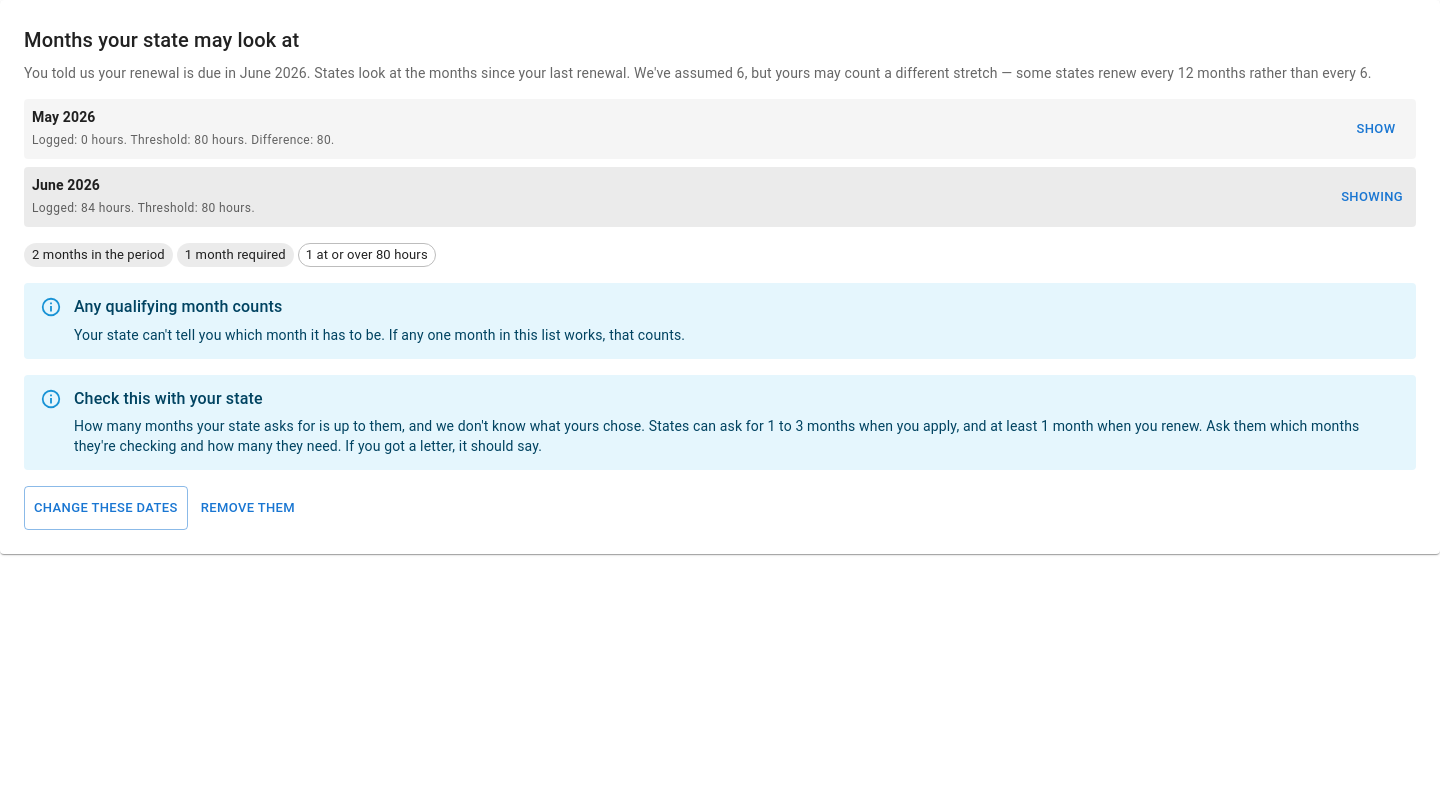
Scenario: ADR-0003 no-verdict guard: W5 month-scoped surfaces › ReviewPeriodPanel › seeds the edit form from the stored anchor, so a renewal cannot become an application
This screenshot has width=1440, height=810.
Click the button "Change these dates" at {"x": 106, "y": 508}, box 24,486 -> 188,530
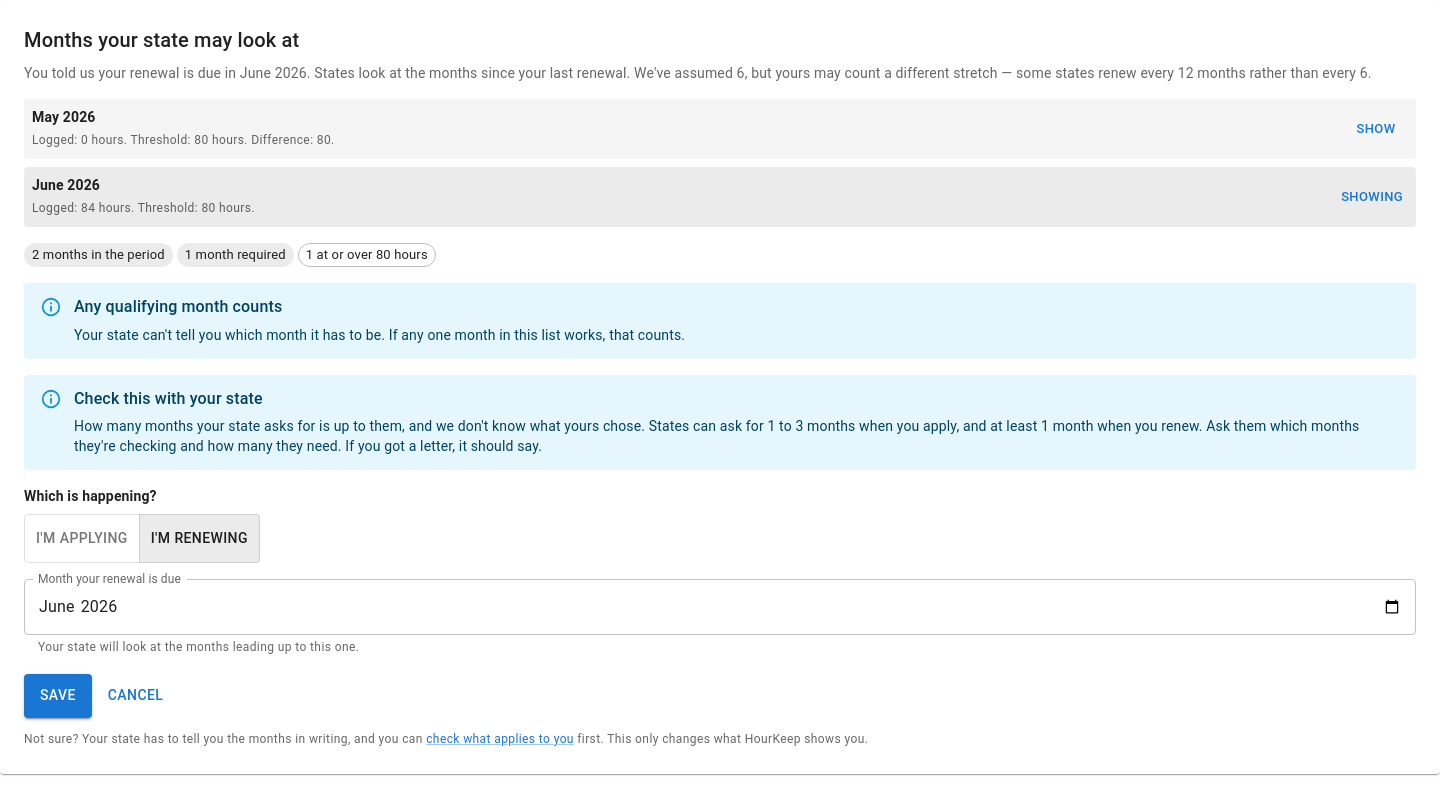
Check: the field labelled "Month your renewal is due" holds "2026-06", box 24,579 -> 1416,635
